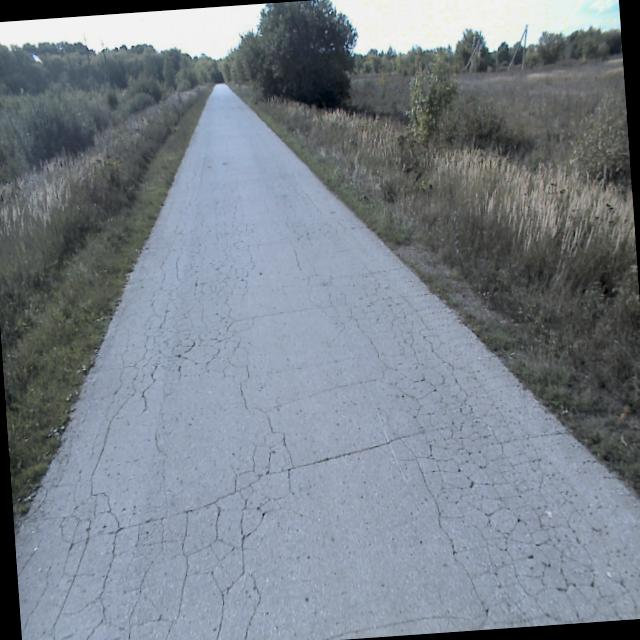road: (16, 82, 640, 640)
